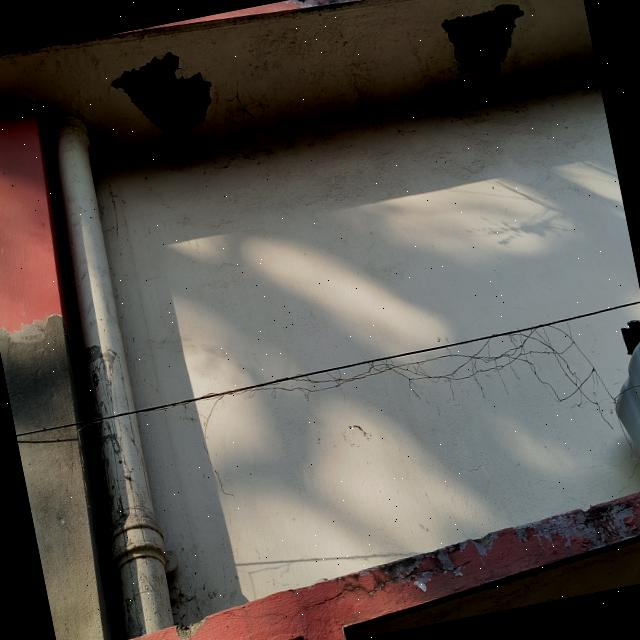crack: (218, 563, 469, 622)
peeling: (479, 496, 640, 559), (330, 541, 478, 584)
spalling: (112, 52, 211, 143), (442, 4, 524, 83)
stain_mould: (17, 428, 111, 640), (0, 315, 79, 435)
